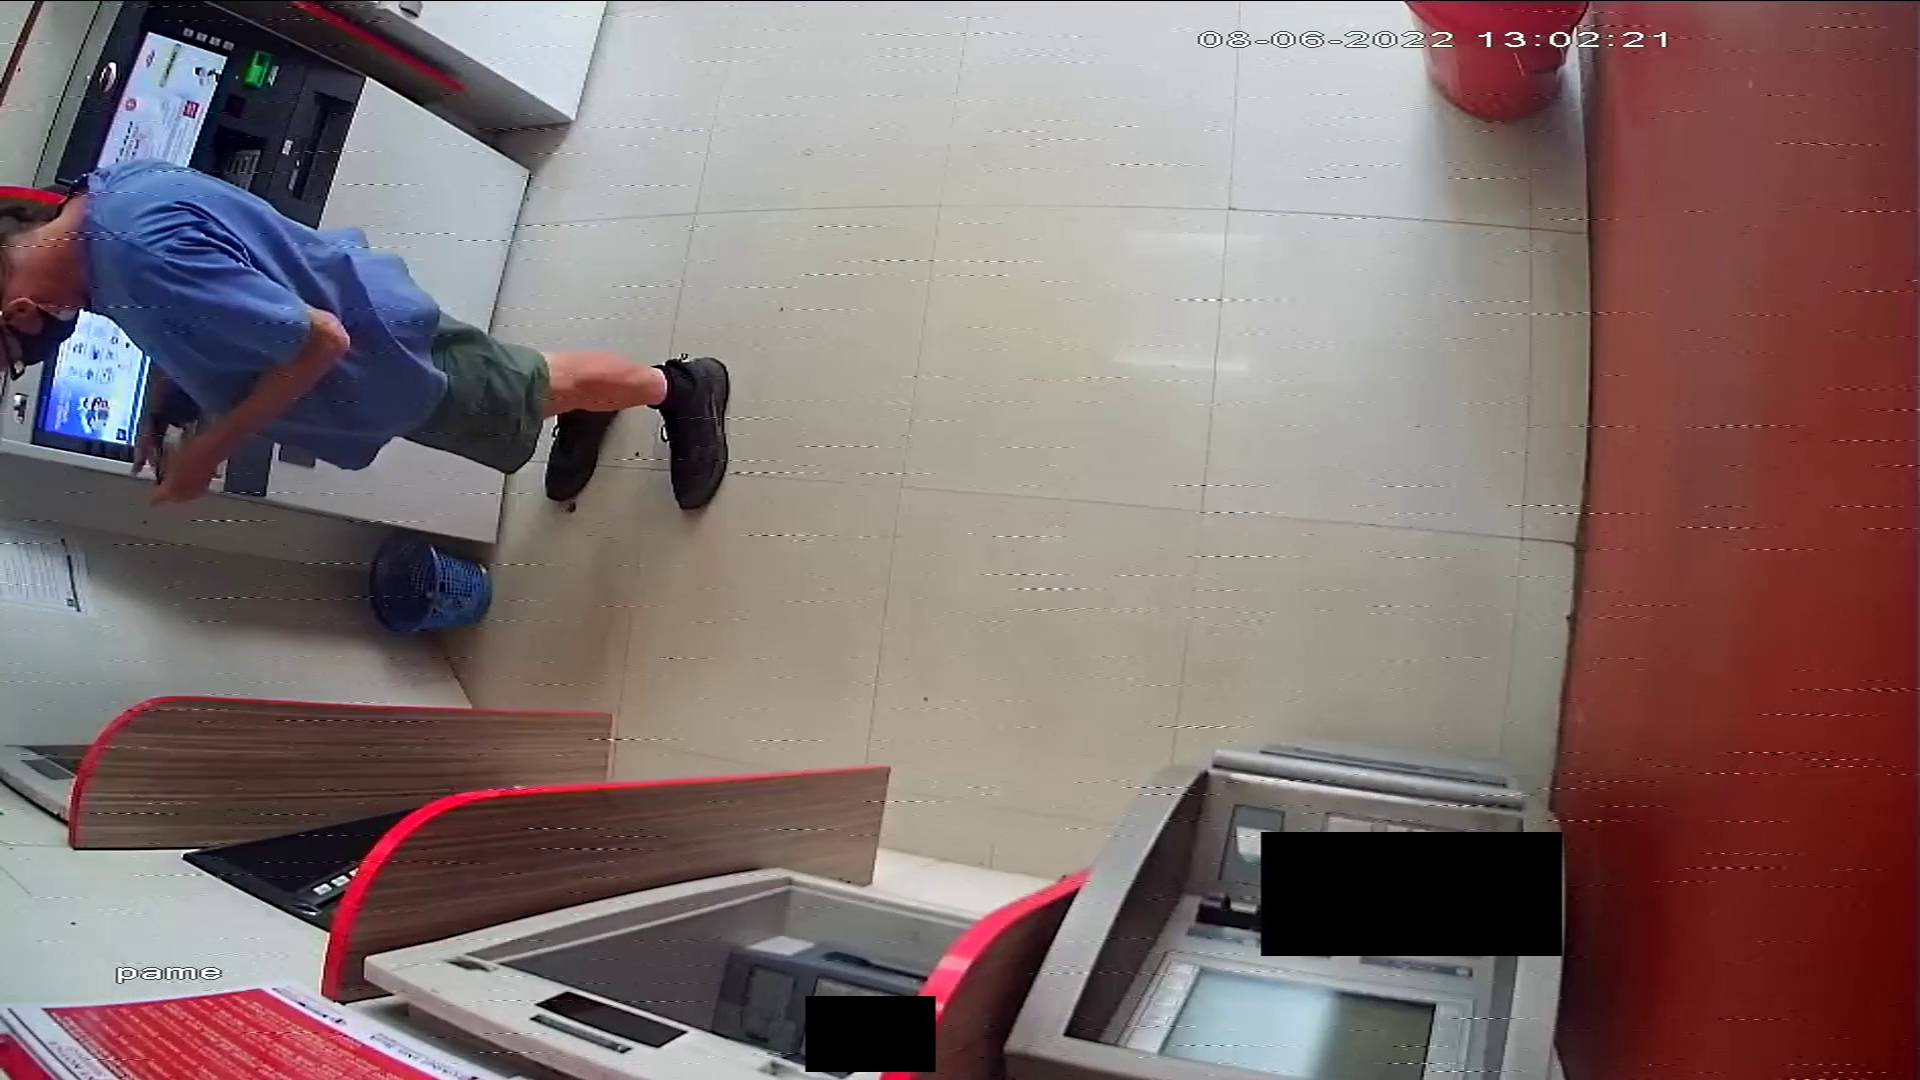person: (1, 155, 732, 515)
